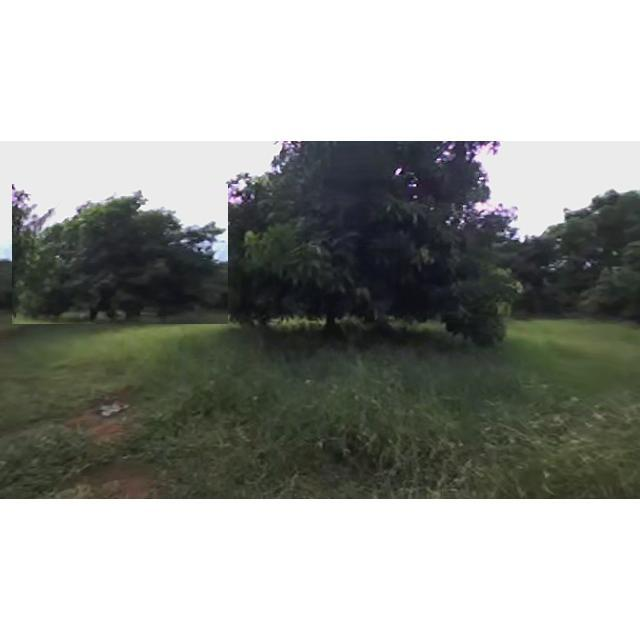direk: (204, 144, 540, 344), (12, 184, 228, 324), (514, 177, 640, 326)
